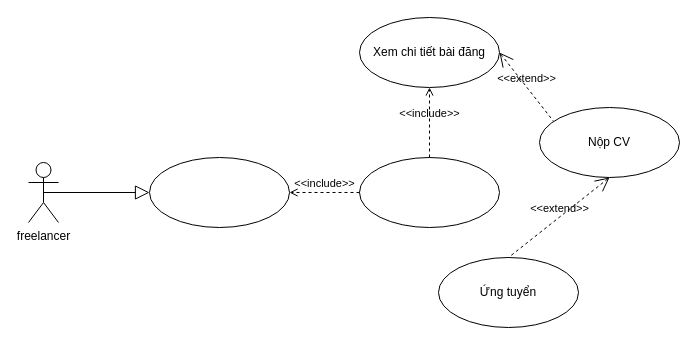
Some shapes in this 697 by 345 pixel diagram are drawn without their labels. Here are the shapes that lost their labels. From the top down, the box of each, then its label:
(148, 156, 290, 228): Tìm việc
(358, 156, 500, 228): Tìm kiếm
